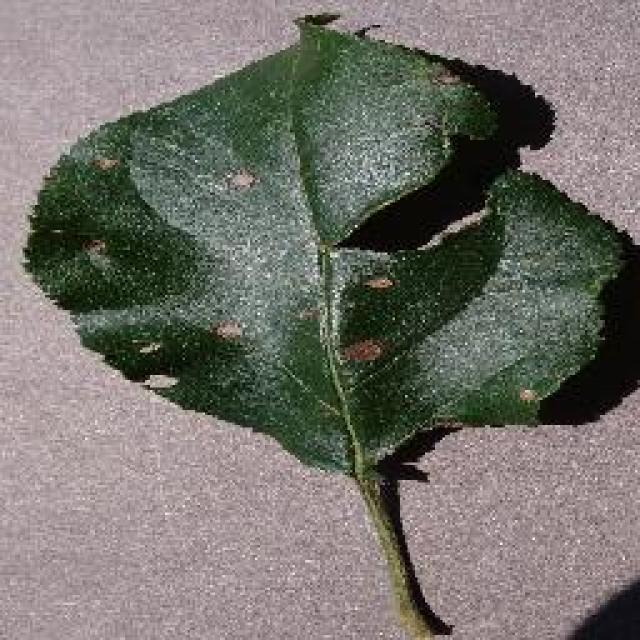Black_rot: (20, 10, 638, 638)
